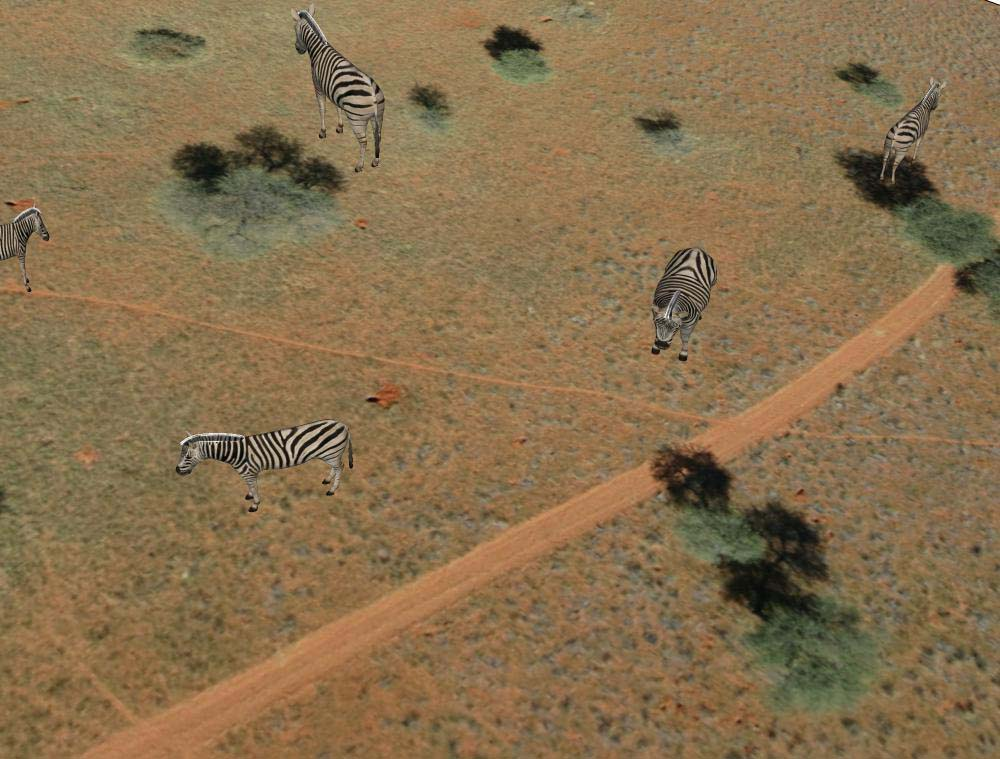zebra: (174, 416, 355, 513), (290, 7, 388, 169), (639, 235, 720, 365), (879, 75, 944, 192), (1, 204, 52, 297)
